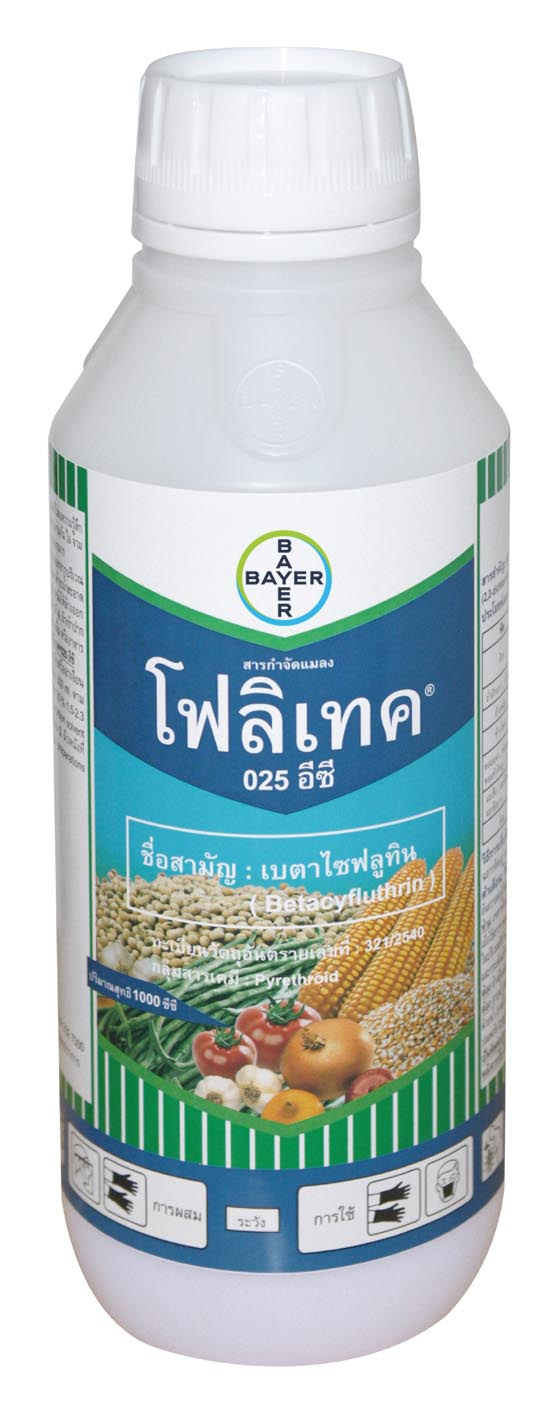Insecticide: (38, 34, 532, 1375)
